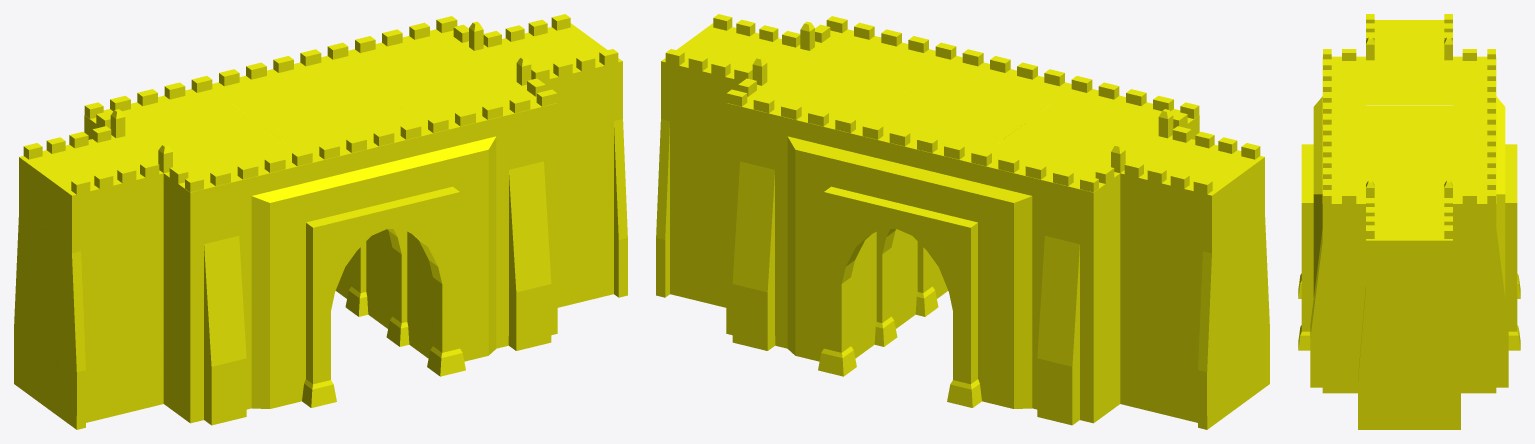
Rendered from bigdam_001.glb.
3 renders of one model, left to right at view 1: azimuth 30°, elevation 25°; view 2: azimuth 150°, elevation 25°; view 3: azimuth 270°, elevation 25°, orthographic. The views are drawn at different scales.
Visible parts, largest first — view 1: b1-bigdam-02, b1-bigdam-01, b1-bigdam-03; view 2: b1-bigdam-02, b1-bigdam-01, b1-bigdam-03; view 3: b1-bigdam-01, b1-bigdam-02, b1-bigdam-03.
Boxes of the visible parts, box(x1,y1,x2,y2) form: b1-bigdam-02: box(84, 21, 557, 425); b1-bigdam-01: box(14, 14, 627, 429); b1-bigdam-03: box(84, 29, 555, 407); b1-bigdam-02: box(726, 20, 1199, 425); b1-bigdam-01: box(656, 14, 1269, 429); b1-bigdam-03: box(728, 29, 1199, 407); b1-bigdam-01: box(1323, 14, 1495, 429); b1-bigdam-02: box(1298, 37, 1520, 393); b1-bigdam-03: box(1298, 56, 1520, 349).
Size of the model in its own units: 59.48 by 26.36 by 25.29.
Materials: 3 (3 with a texture image).
